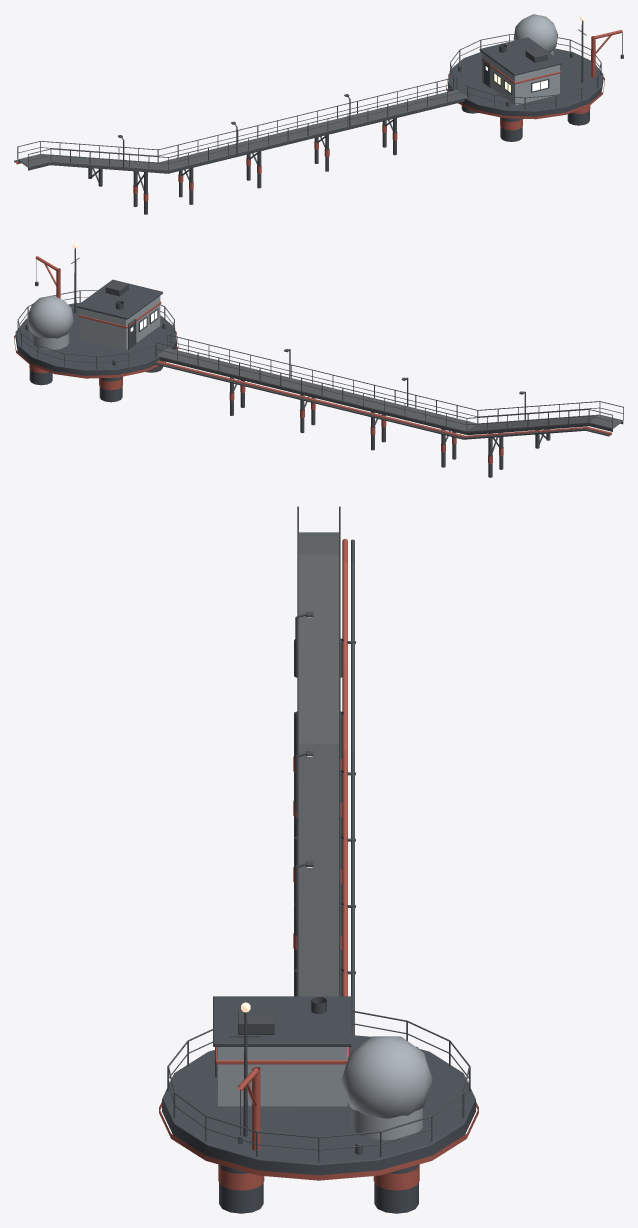
The model's file is platform.glb.
3 views of the same model, one above another, from view 1: azimuth 30°, elevation 25°; view 2: azimuth 150°, elevation 25°; view 3: azimuth 270°, elevation 25° (orthographic). The views are drawn at different scales.
Visible parts, largest first — view 1: platform; view 2: platform; view 3: platform.
Part boxes in pixels (x1,y1,x2,y2): platform: (14,14,623,214); platform: (14,243,623,477); platform: (159,506,478,1213).
Size of the model in its own units: 51.34 by 8.94 by 12.24.
